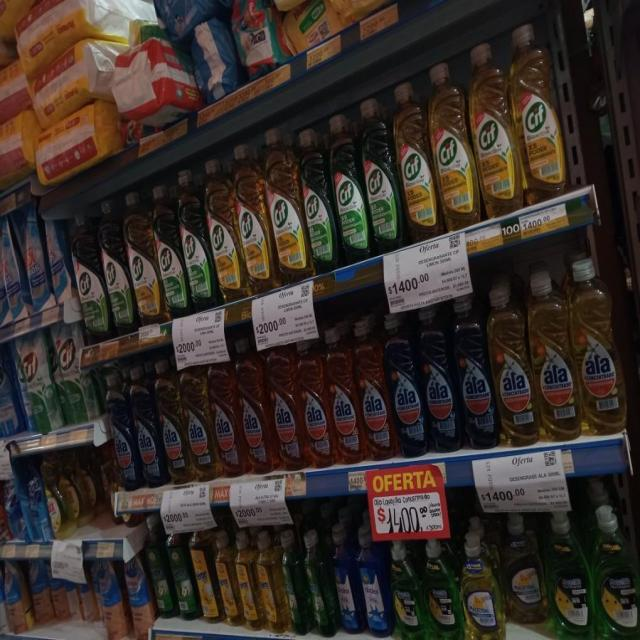ala_conc_amarillo: (576, 256, 626, 437), (534, 270, 576, 442), (494, 278, 534, 446), (159, 358, 185, 485), (185, 358, 211, 482)
ala_conc_azul: (457, 291, 494, 451), (423, 304, 457, 454), (389, 313, 422, 458), (107, 369, 134, 492), (134, 364, 159, 488)
ala_conc_rojo: (358, 316, 390, 462), (329, 325, 359, 466), (238, 338, 268, 475), (269, 340, 299, 471), (300, 337, 329, 469), (211, 350, 238, 478)
cif_conc_bot_amarilla: (516, 20, 563, 204), (474, 39, 515, 218), (434, 61, 474, 231), (398, 80, 434, 242), (269, 129, 304, 284), (238, 143, 269, 294), (210, 157, 238, 304), (129, 190, 158, 327)
cif_conc_botella_verde: (364, 96, 398, 253), (333, 114, 366, 265), (304, 126, 334, 274), (74, 207, 105, 343), (183, 167, 210, 312), (157, 182, 184, 320), (104, 198, 130, 336)
heroe: (306, 528, 334, 636), (258, 529, 284, 632), (192, 529, 220, 622), (283, 529, 306, 635), (217, 529, 240, 625), (236, 529, 258, 629)
magistral_con_amarillo: (504, 512, 546, 626), (462, 524, 502, 640)
magistral_con_azul: (358, 524, 388, 638), (334, 522, 359, 636)
magistral_con_verde: (594, 503, 639, 640), (548, 508, 592, 640), (425, 538, 461, 640), (391, 539, 424, 640)
